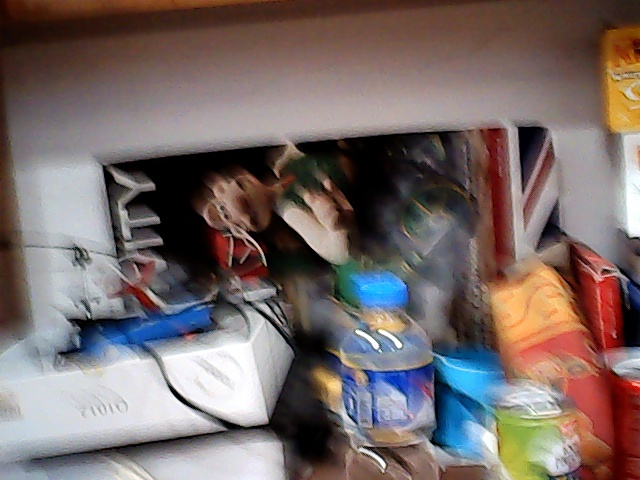Pine Juice: (479, 375, 594, 480)
Summit Water: (329, 271, 450, 480)
